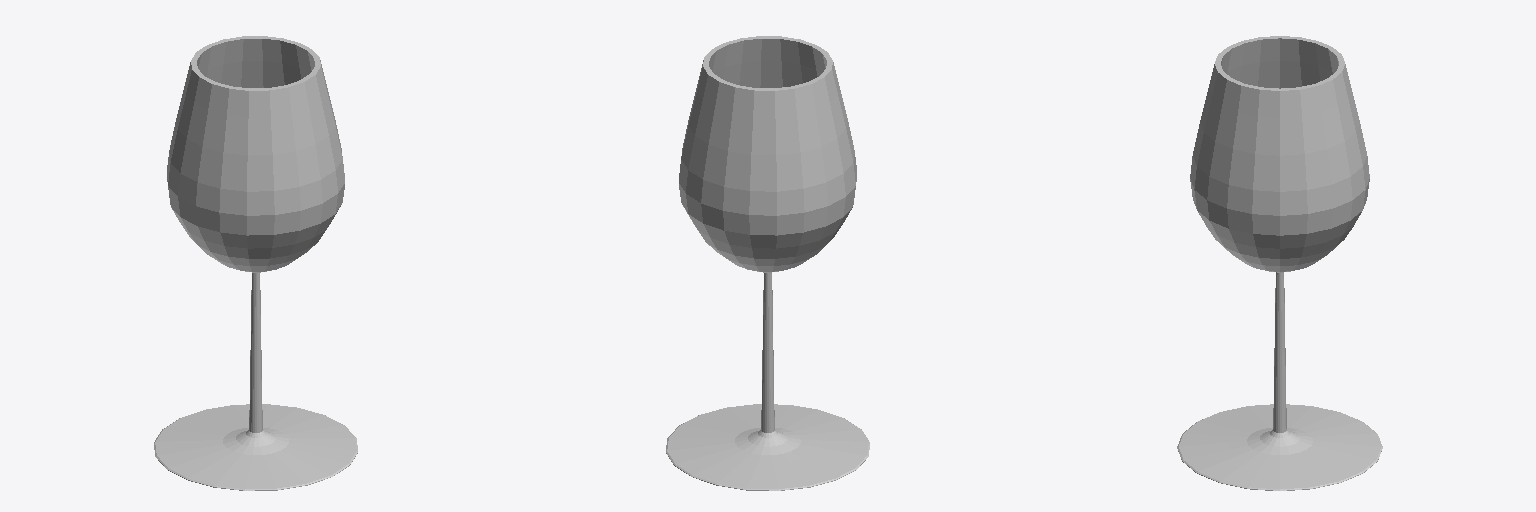
File: Weinglas_Vol.obj
The picture shows the model from 3 angles: view 1: azimuth 30°, elevation 25°; view 2: azimuth 150°, elevation 25°; view 3: azimuth 270°, elevation 25°; orthographic projection.
Parts seen in each view (by area): view 1: Glas_Vert; view 2: Glas_Vert; view 3: Glas_Vert.
Boxes of the visible parts, x1,y1,x2,y2 form: Glas_Vert: [154, 36, 357, 490]; Glas_Vert: [666, 36, 869, 490]; Glas_Vert: [1177, 36, 1382, 490].
Size of the model in its own units: 2.03 by 4.19 by 2.03.